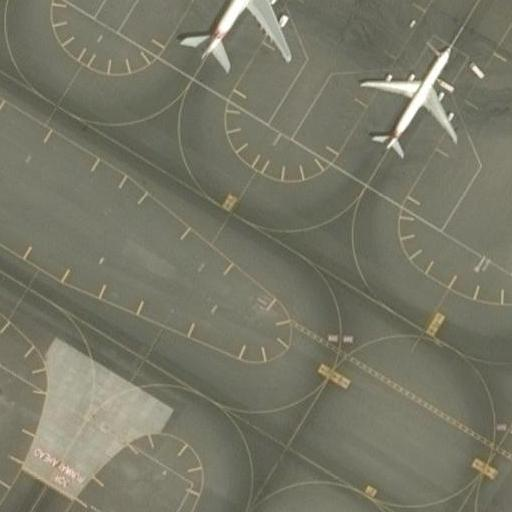Aircraft: (364, 34, 466, 160), (162, 0, 298, 75)
